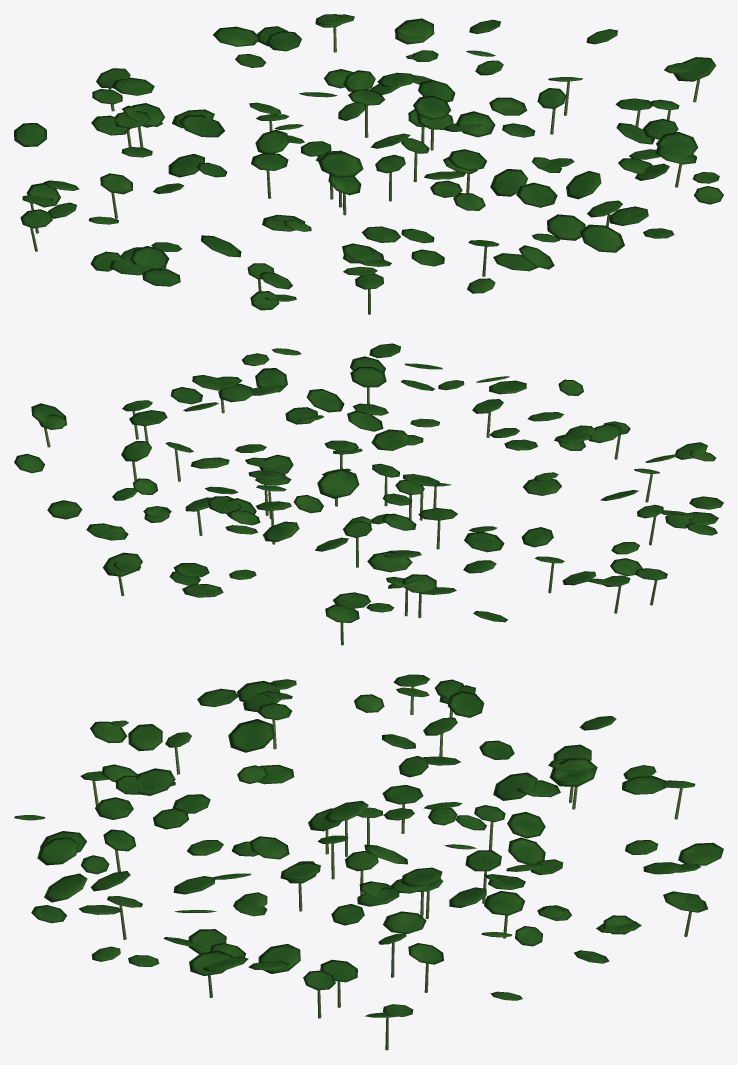
Rendered from CressBed.glb.
3 renders of one model, top to bottom at view 1: azimuth 30°, elevation 25°; view 2: azimuth 150°, elevation 25°; view 3: azimuth 270°, elevation 25°, orthographic. The views are drawn at different scales.
Parts seen in each view (by area): view 1: CressPads, CressStalks; view 2: CressPads, CressStalks; view 3: CressPads, CressStalks.
Boxes of the visible parts, x1,y1,x2,y2 form: CressPads: [14, 14, 723, 310]; CressStalks: [30, 27, 700, 314]; CressPads: [14, 343, 723, 622]; CressStalks: [44, 387, 657, 645]; CressPads: [14, 674, 723, 1017]; CressStalks: [92, 686, 691, 1050].
Bounding box in the file's own units: 1.16 × 0.0772 × 0.9908.
